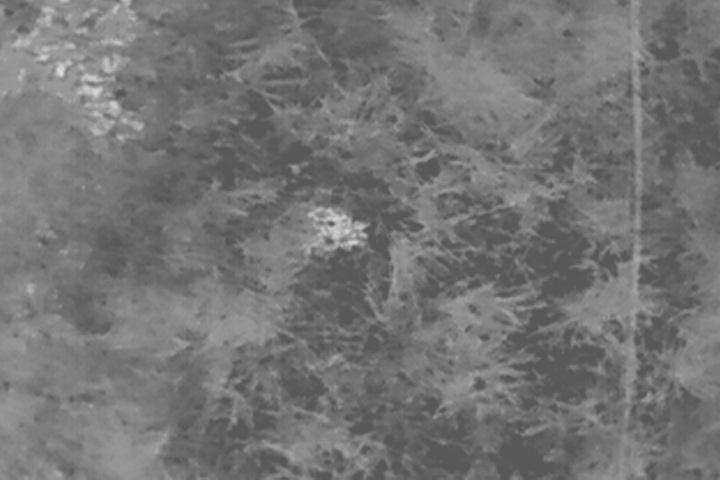landmine: (309, 206, 356, 251)
